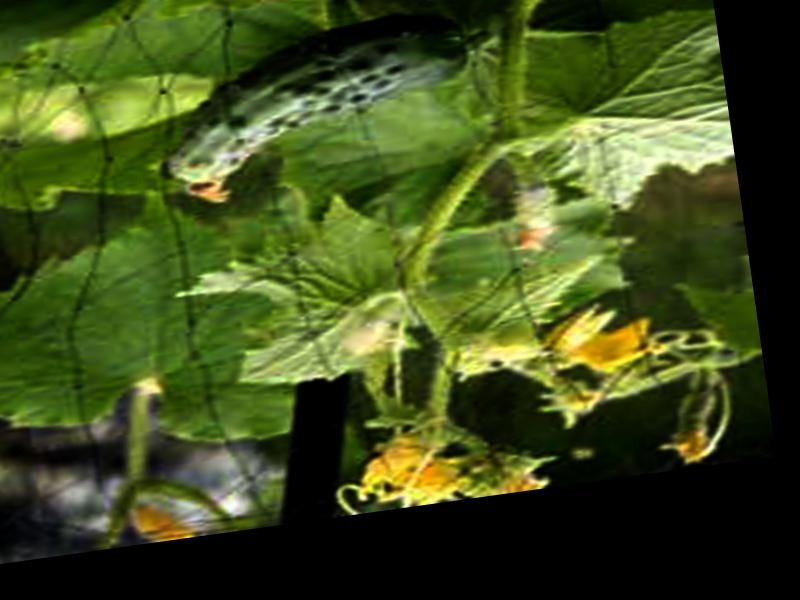Cucumber: (147, 6, 490, 211)
